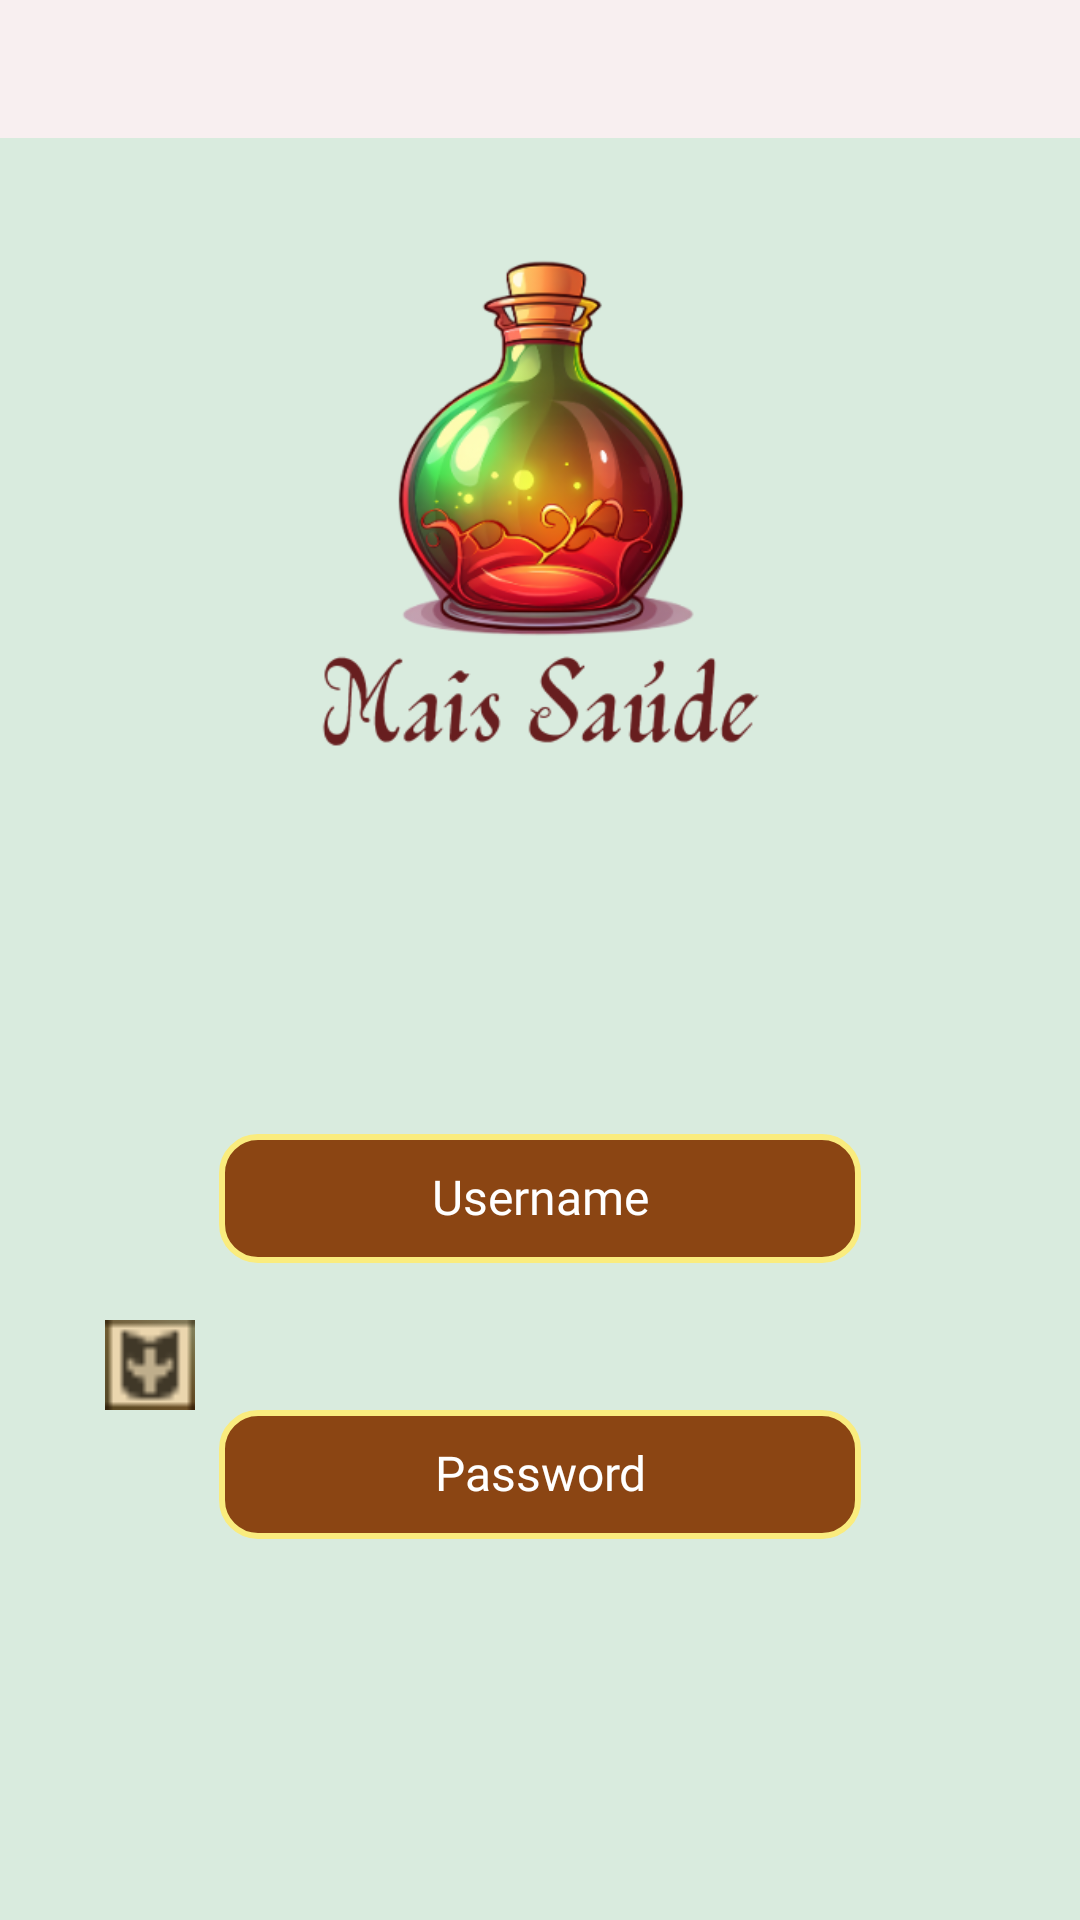

Icons on this 1080*1920 Android screen, each with its box as (left=x1, top=y1, right=x2, bottom=y2):
shield: (left=105, top=1320, right=195, bottom=1410)
